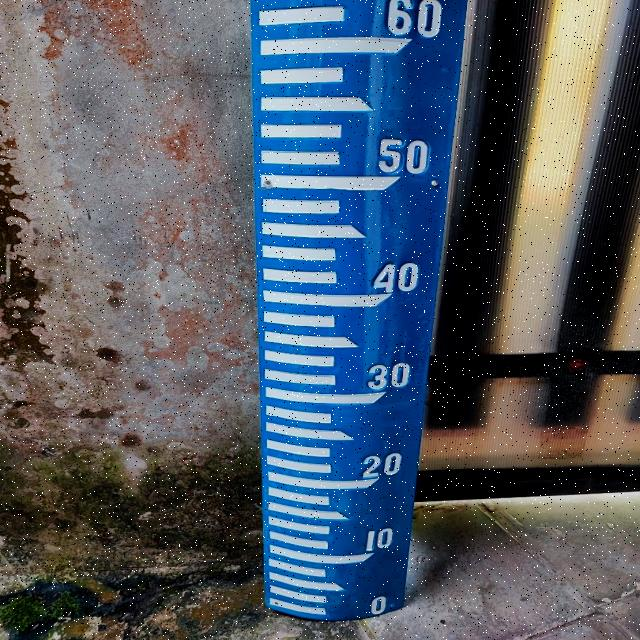10: (362, 522, 398, 553)
20: (361, 450, 406, 480)
30: (362, 359, 413, 392)
40: (372, 258, 424, 292)
50: (375, 134, 433, 174)
60: (386, 2, 450, 40)
staff: (255, 0, 474, 626)
